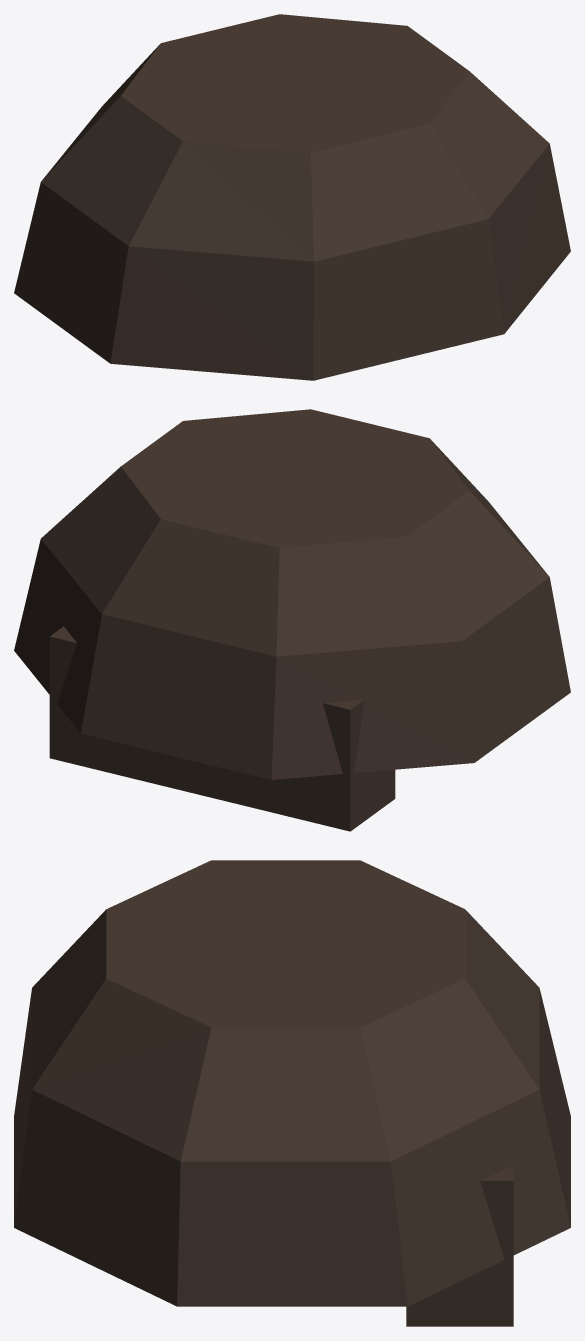
The model's file is NPC_Hair_03_Crop.glb.
The picture shows the model from 3 angles, top to bottom: view 1: azimuth 30°, elevation 25°; view 2: azimuth 150°, elevation 25°; view 3: azimuth 270°, elevation 25°; orthographic projection. The views are drawn at different scales.
Visible parts, largest first — view 1: NPC_Hair_03_Crop; view 2: NPC_Hair_03_Crop; view 3: NPC_Hair_03_Crop.
Part boxes in pixels (<box>): NPC_Hair_03_Crop: <box>14,14,570,380</box>; NPC_Hair_03_Crop: <box>14,409,570,831</box>; NPC_Hair_03_Crop: <box>14,860,570,1326</box>.
Size of the model in its own units: 0.4749 by 0.243 by 0.4157.
